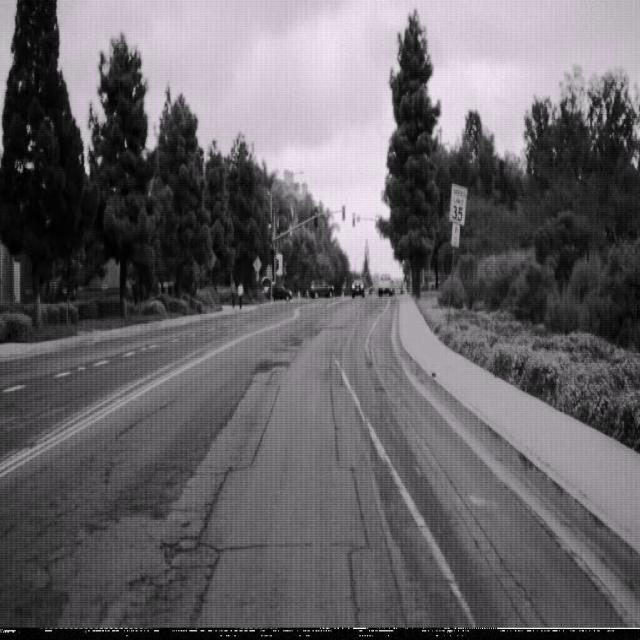speedLimit35: (448, 181, 468, 227)
